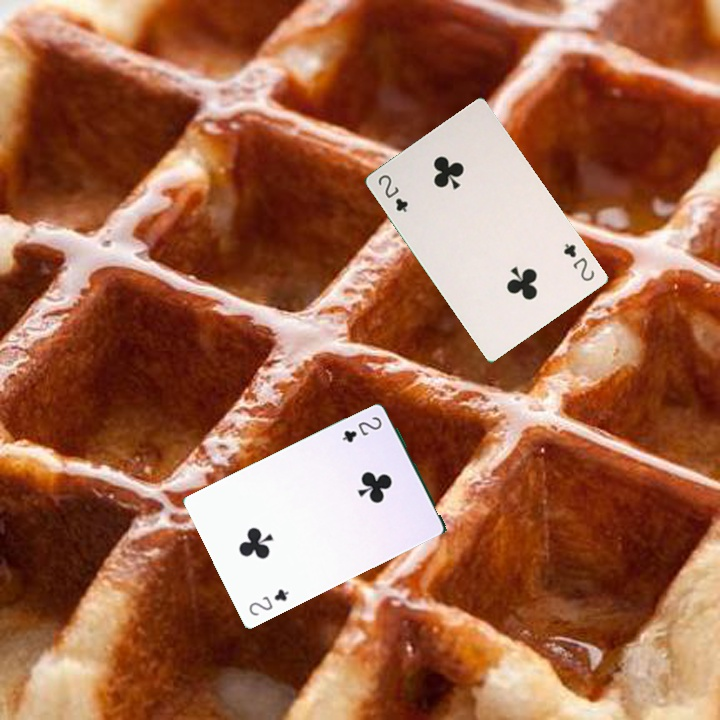2c: (559, 239, 597, 284), (374, 170, 411, 215), (245, 585, 292, 618), (338, 412, 385, 445)
